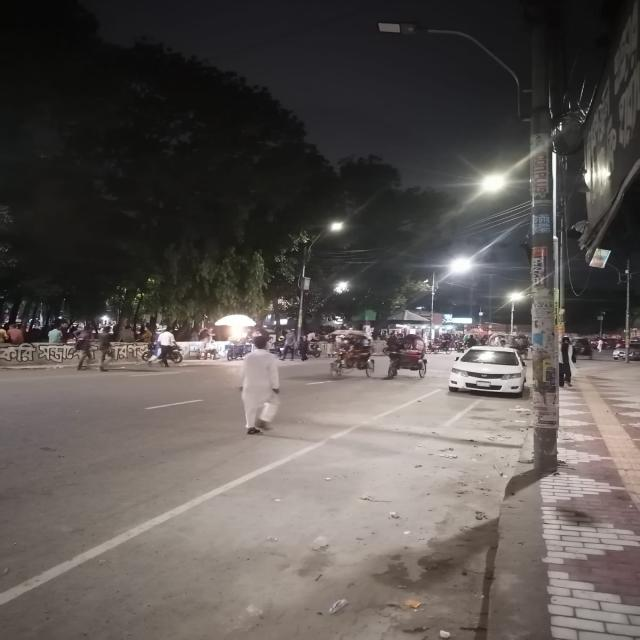person: (241, 335, 280, 435)
